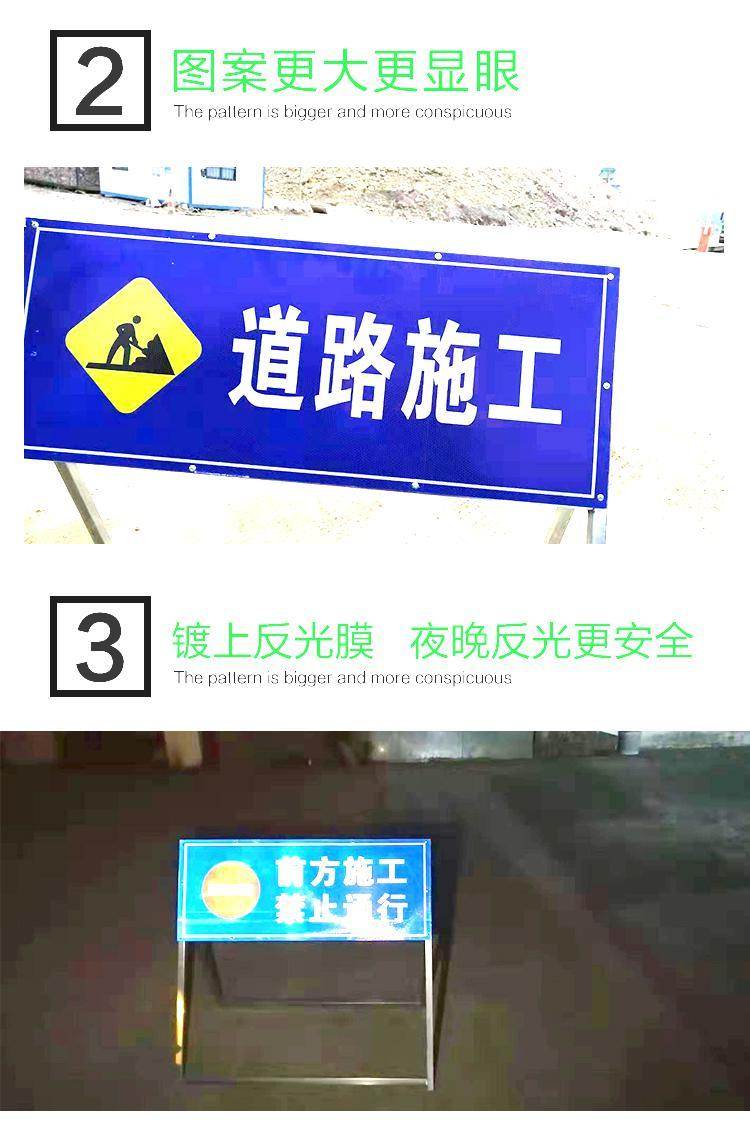sign: (25, 221, 611, 505), (177, 841, 435, 945)
